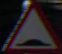Speed Breaker ahead: (9, 6, 48, 49)
